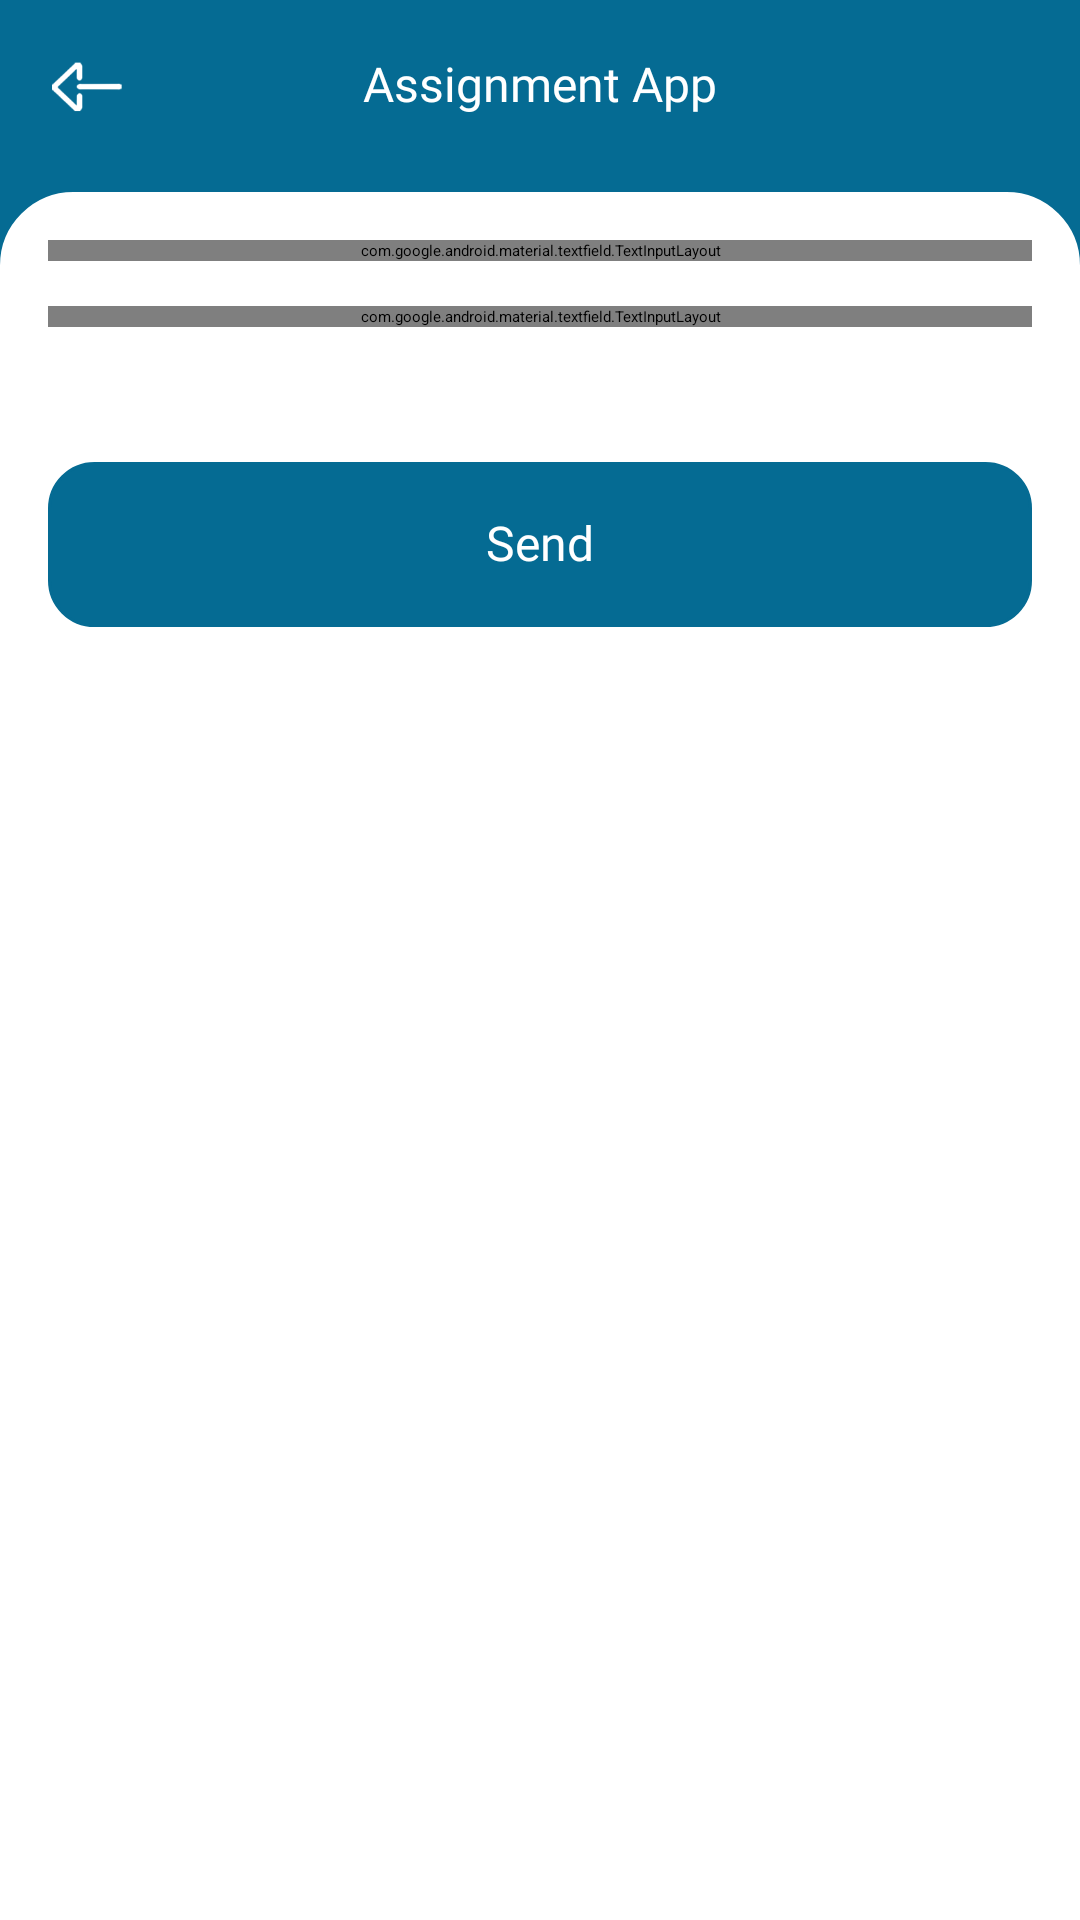

Icons on this 1080 × 1920 Android screen, each with the point to tap as [x,y]:
left: [87,86]
